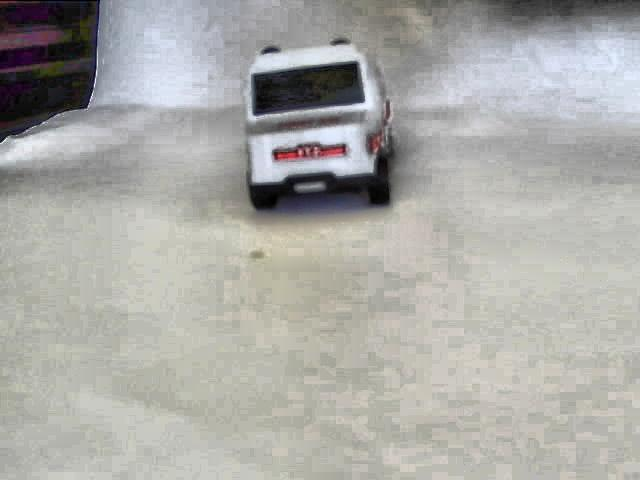ambulance: (244, 37, 394, 210)
